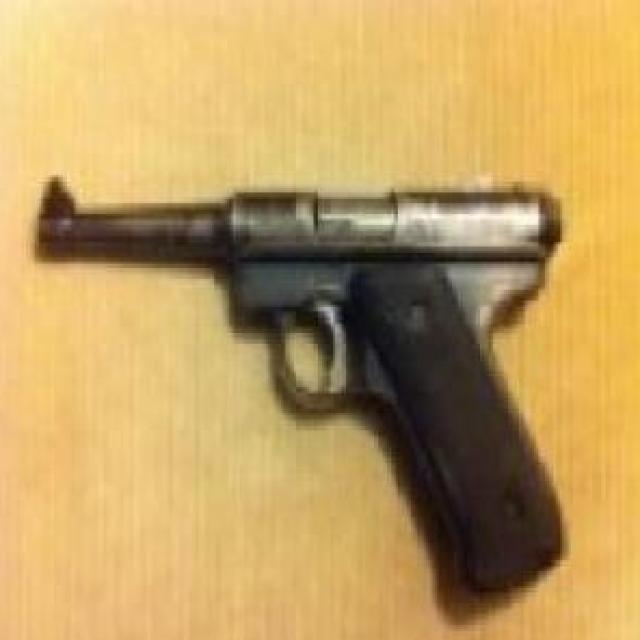pistol: (18, 178, 578, 604)
